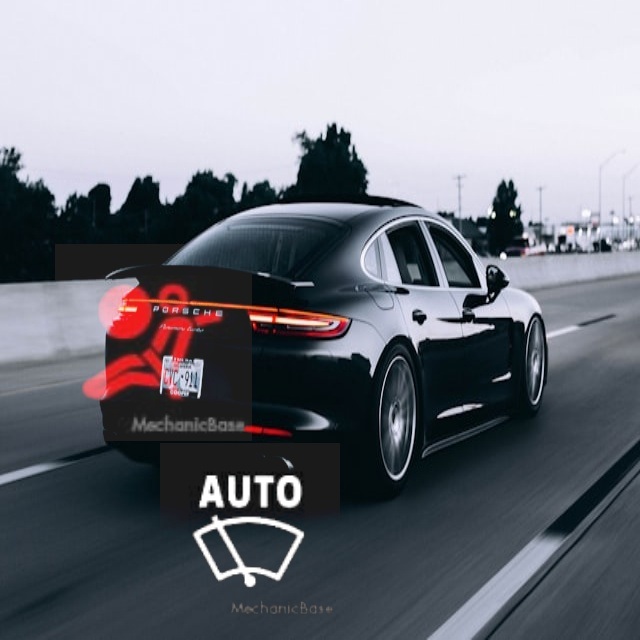symbol: (55, 244, 252, 441), (160, 443, 340, 623)
